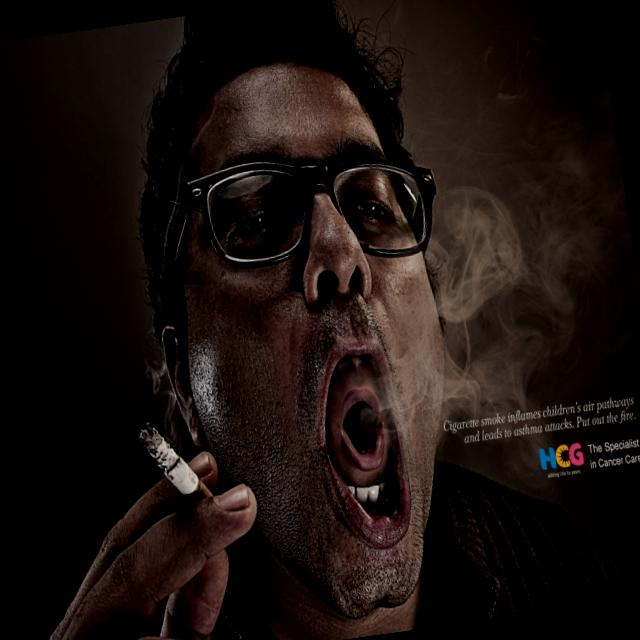cigarette: (134, 406, 216, 513)
